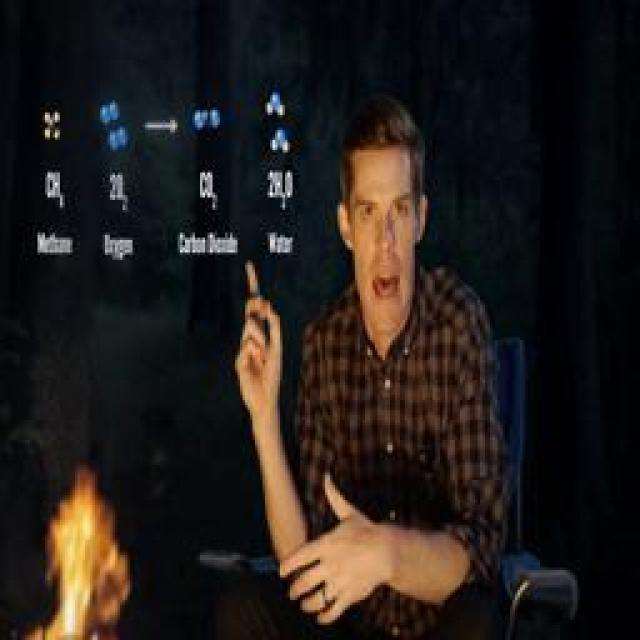Fire: (27, 467, 132, 640)
